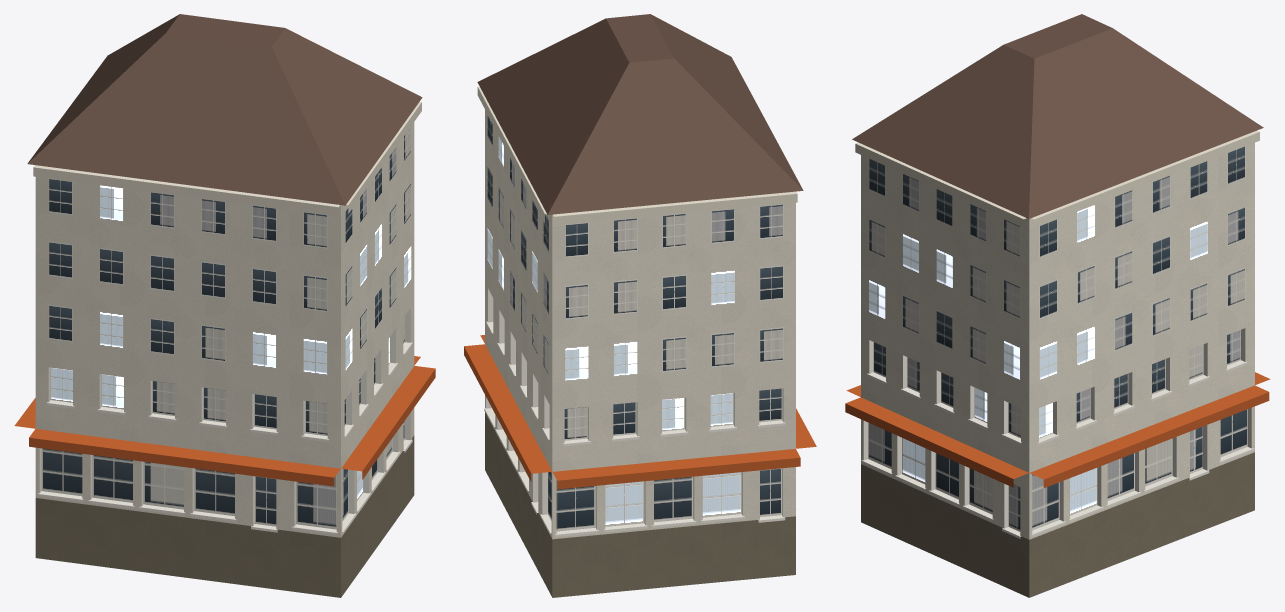
Rendered from z2c_konrad_w.glb.
3 views of the same model, side by side, from view 1: azimuth 30°, elevation 25°; view 2: azimuth 150°, elevation 25°; view 3: azimuth 270°, elevation 25° (orthographic). The views are drawn at different scales.
Visible parts, largest first — view 1: z2c_konrad_w; view 2: z2c_konrad_w; view 3: z2c_konrad_w.
Part boxes in pixels (x1,y1,x2,y2): z2c_konrad_w: [14, 14, 435, 597]; z2c_konrad_w: [464, 14, 816, 597]; z2c_konrad_w: [845, 14, 1270, 597].
Bounding box in the file's own units: 19.68 × 24.75 × 19.9.
3 materials, 3 textured.
